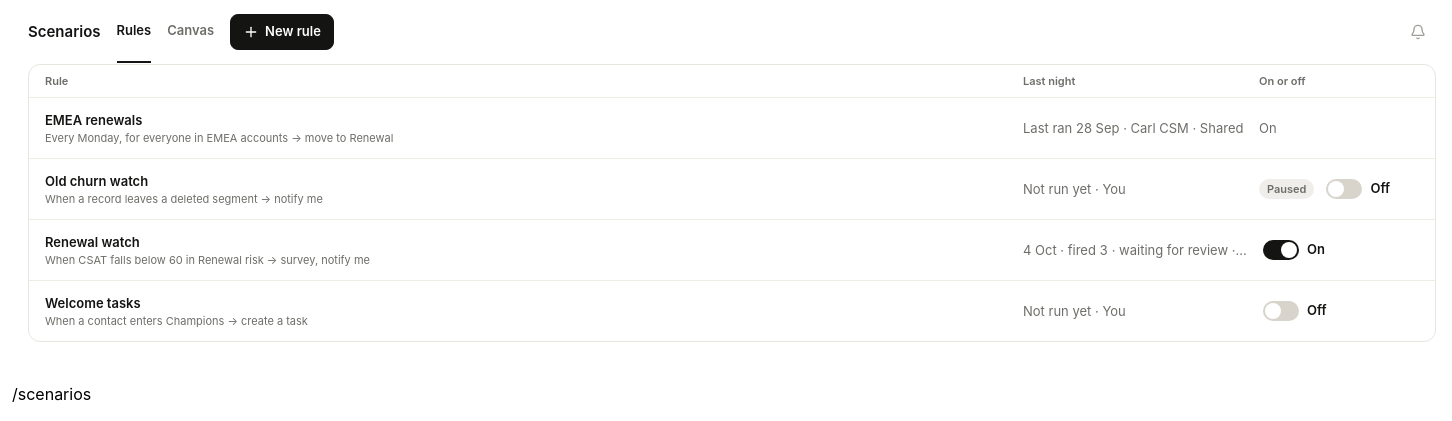
/scenarios (spec §2.1) › switches to Canvas in the URL, showing the canvas list as it was, and back
Click the link "Canvas" at {"x": 191, "y": 30}, box [167,22,214,38]
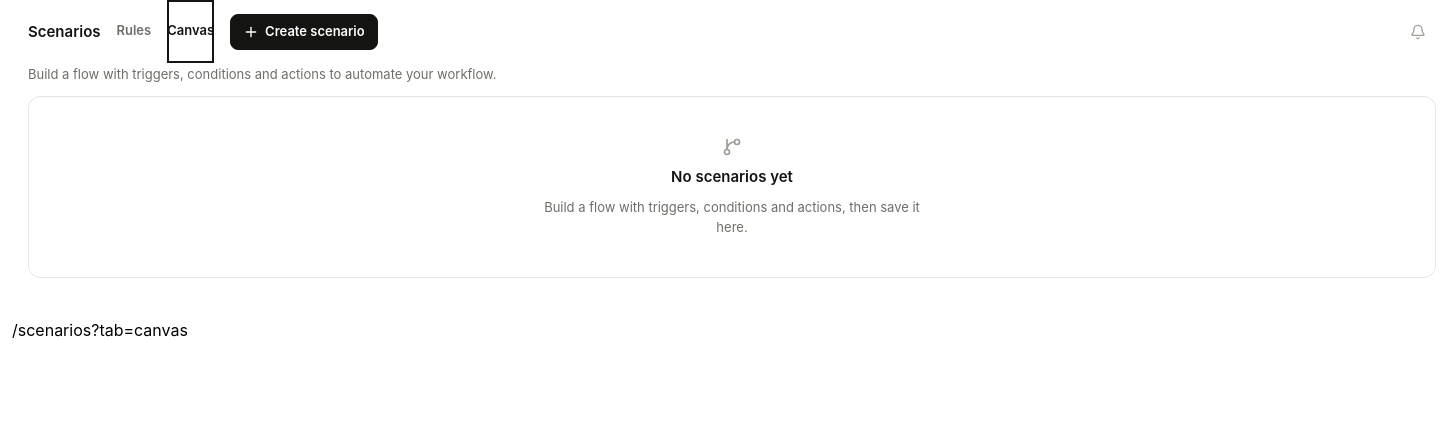
Check: the text with test id "where" reads "/scenarios?tab=canvas", box [12,320,188,340]
Check: the text "No scenarios yet" is shown, box [671,165,793,189]
Check: the link "Create scenario" is shown, box [230,14,378,50]
Click the link "Rules" at {"x": 134, "y": 30}, box [116,22,151,38]
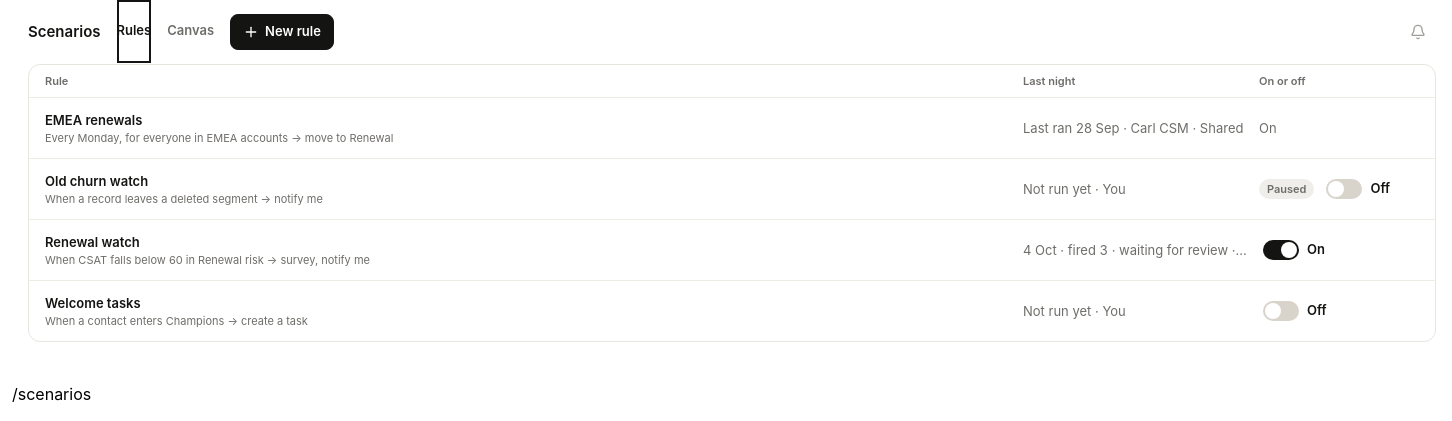
Check: the text with test id "where" reads "/scenarios", box [12,384,91,404]
